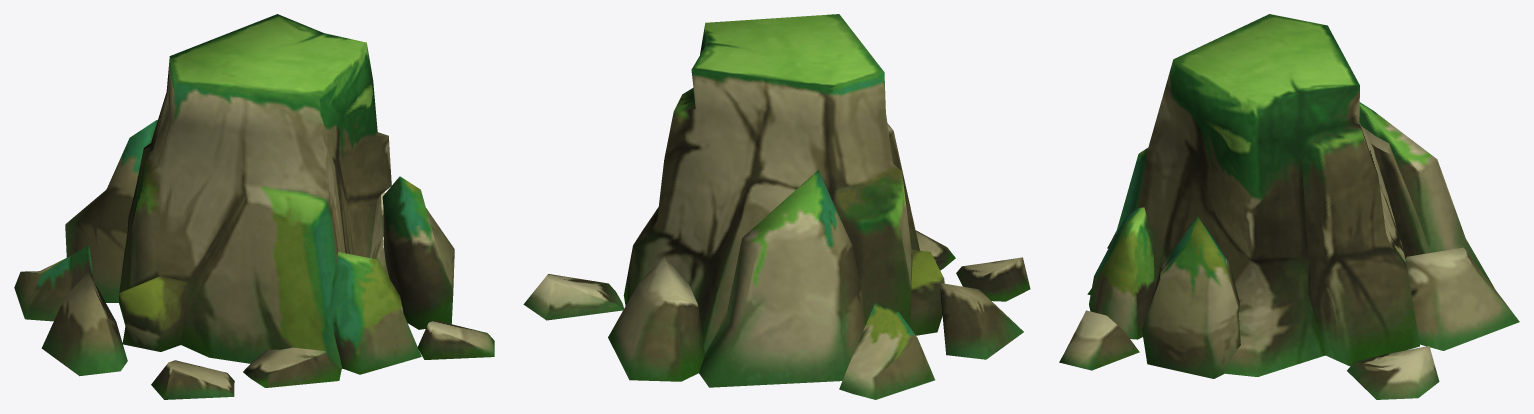
File: cj_shan2.fbx
The picture shows the model from 3 angles, left to right: view 1: azimuth 30°, elevation 25°; view 2: azimuth 150°, elevation 25°; view 3: azimuth 270°, elevation 25°; orthographic projection.
Parts seen in each view (by area): view 1: cj_shan2, shitou9, shitou7, shitou10, shitou4, shitou13, shitou5, shitou6, shitou8; view 2: cj_shan2, shitou10, shitou11, shitou13, shitou4, shitou12, shitou6, shitou5; view 3: cj_shan2, shitou9, shitou11, shitou7, shitou10, shitou12, shitou8.
Boxes of the visible parts, x1=… form: cj_shan2: x1=119, y1=14, x2=391, y2=369; shitou9: x1=382, y1=176, x2=454, y2=329; shitou7: x1=329, y1=252, x2=421, y2=374; shitou10: x1=65, y1=120, x2=157, y2=302; shitou4: x1=41, y1=272, x2=127, y2=376; shitou13: x1=14, y1=245, x2=93, y2=321; shitou5: x1=243, y1=347, x2=341, y2=387; shitou6: x1=151, y1=360, x2=234, y2=399; shitou8: x1=418, y1=320, x2=494, y2=359; cj_shan2: x1=623, y1=14, x2=944, y2=353; shitou10: x1=699, y1=170, x2=864, y2=387; shitou11: x1=608, y1=256, x2=704, y2=381; shitou13: x1=839, y1=303, x2=934, y2=399; shitou4: x1=940, y1=283, x2=1023, y2=359; shitou12: x1=523, y1=274, x2=623, y2=320; shitou6: x1=956, y1=257, x2=1030, y2=301; shitou5: x1=915, y1=230, x2=955, y2=270; cj_shan2: x1=1115, y1=14, x2=1430, y2=376; shitou9: x1=1142, y1=216, x2=1240, y2=378; shitou11: x1=1405, y1=247, x2=1519, y2=350; shitou7: x1=1089, y1=207, x2=1154, y2=339; shitou10: x1=1359, y1=102, x2=1494, y2=287; shitou12: x1=1347, y1=346, x2=1439, y2=399; shitou8: x1=1059, y1=310, x2=1139, y2=370.
Bounding box in the file's own units: 2030 × 1182 × 2002.
